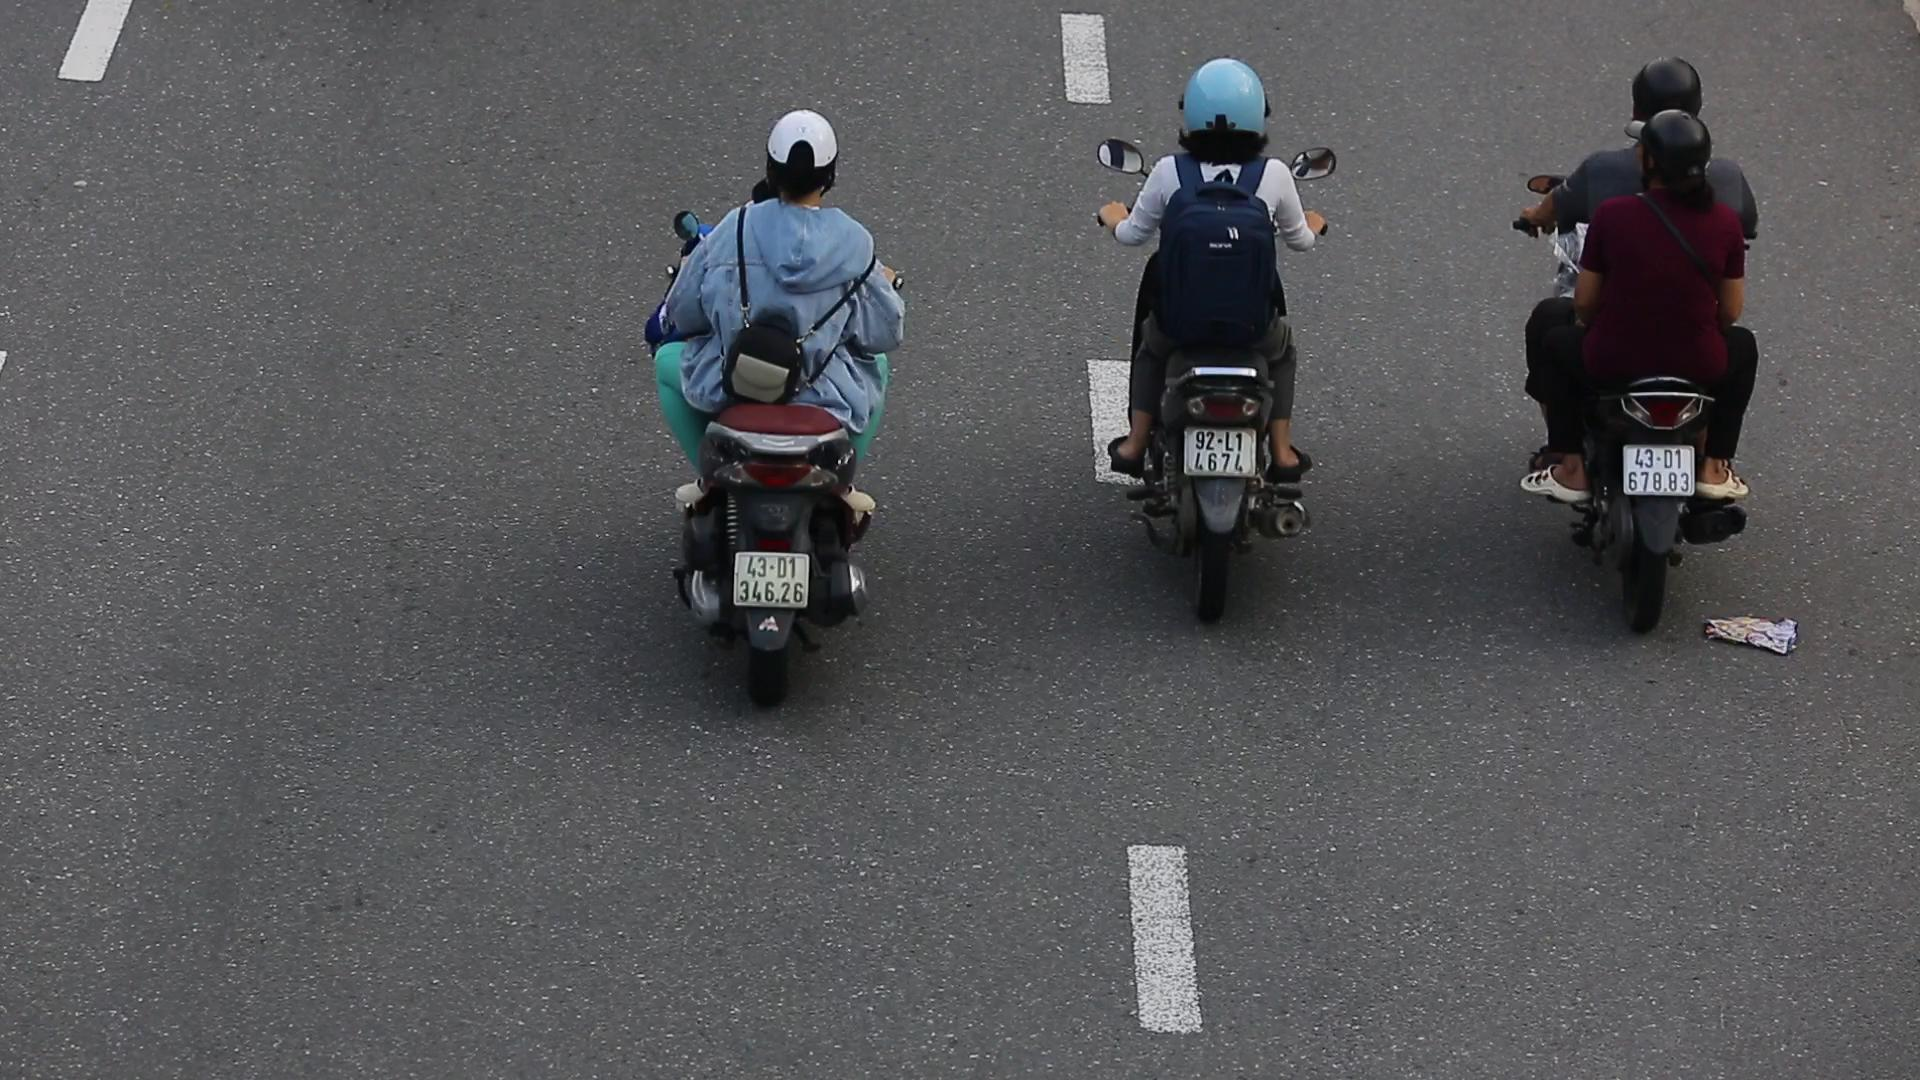motobike: (1081, 20, 1374, 667), (1485, 45, 1774, 692), (645, 105, 909, 729)
